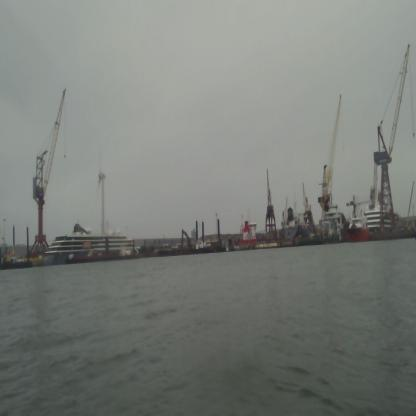Fishing Boat: (346, 217, 371, 242)
